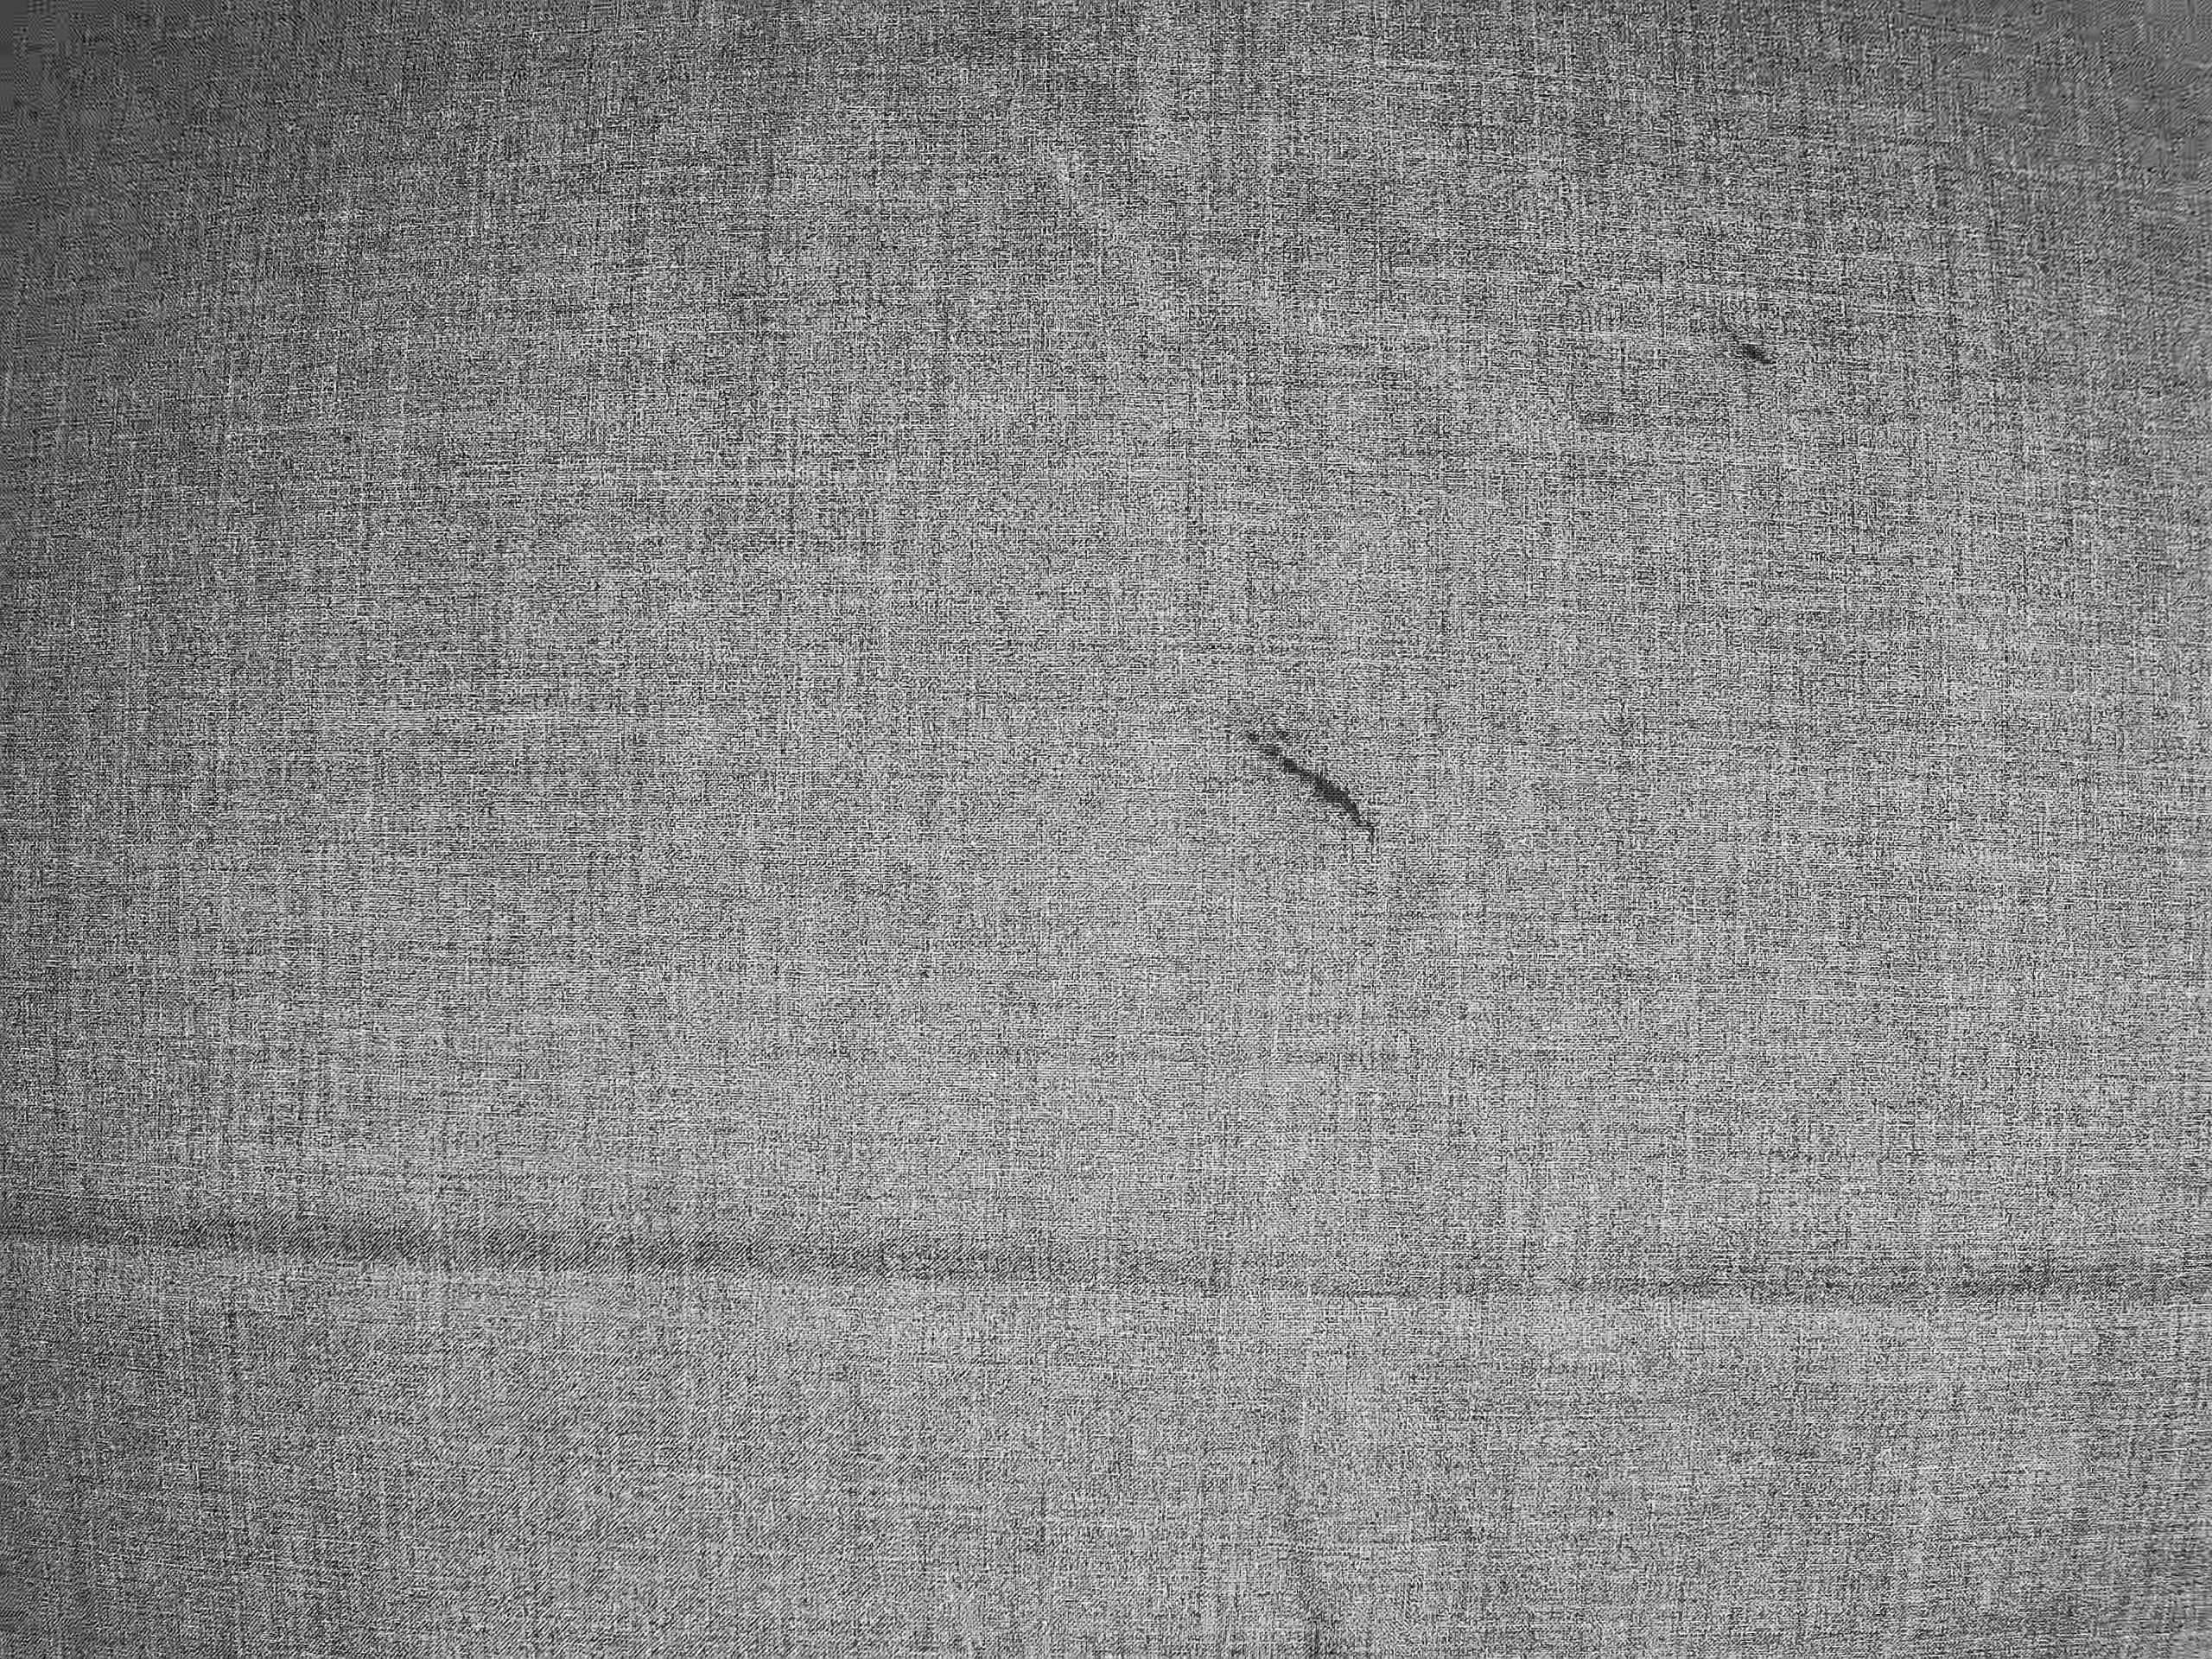stains: (1208, 678, 1402, 885), (1703, 284, 1792, 398)
